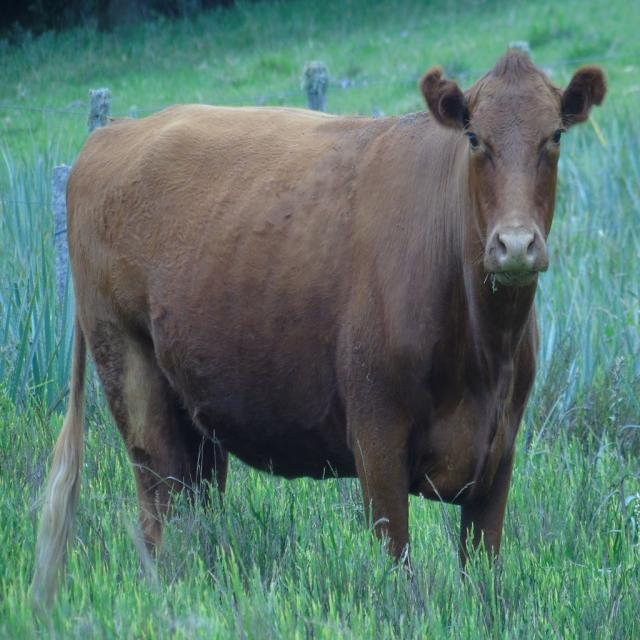cow: (38, 51, 602, 586)
